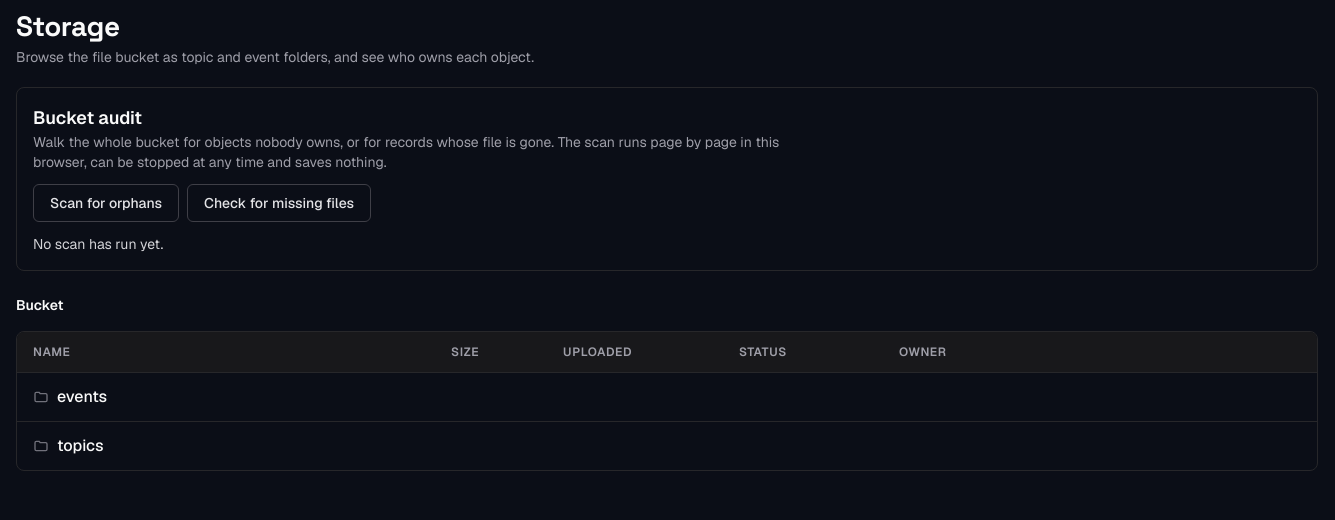
Test case: StorageScanPanel › shows the empty message when a finished scan found nothing
Click the button "Scan for orphans". click: (106, 203)
box: [33,184,179,222]
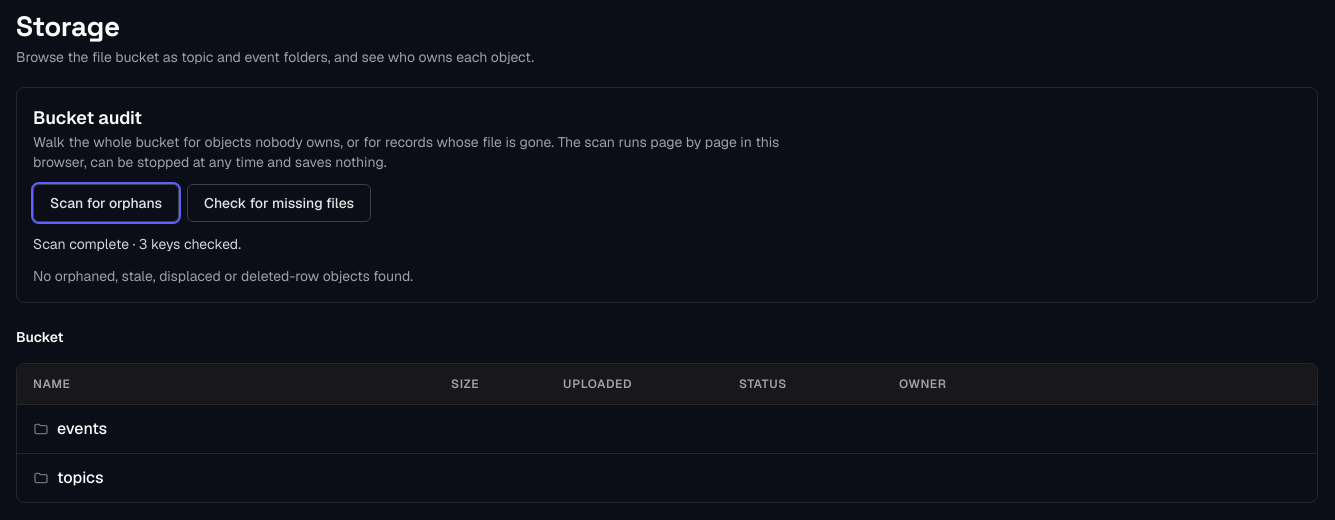
Check: the text "No orphaned, stale, displaced or deleted-row objects found." is shown, box [33,267,413,285]
